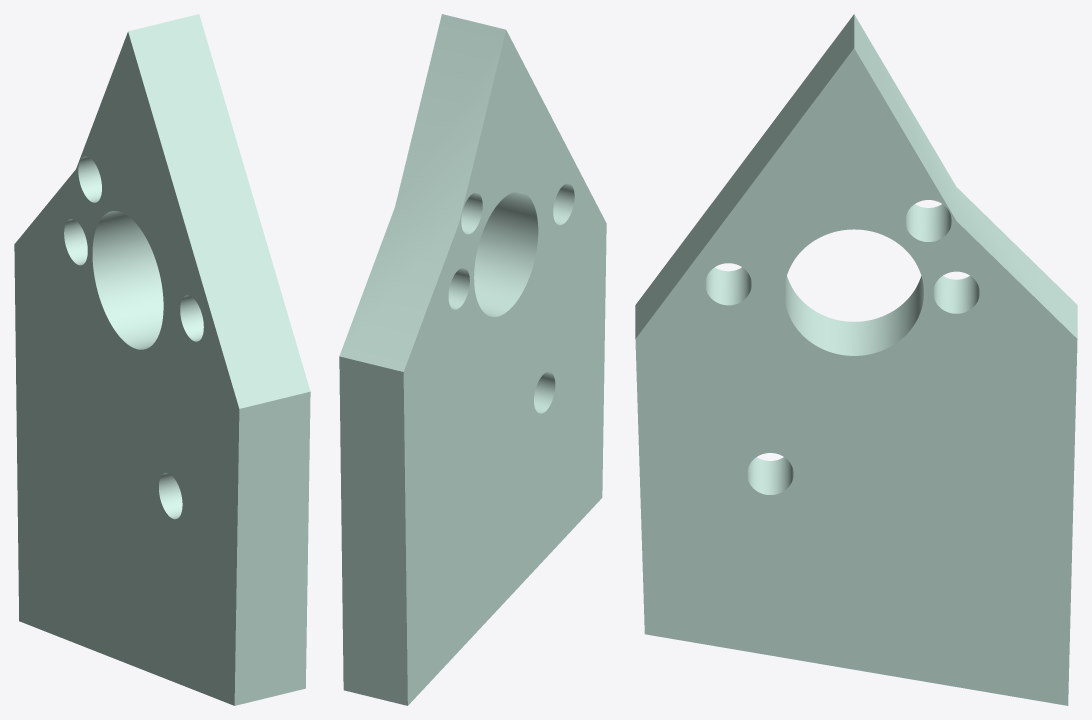
3 renders of one model, left to right at view 1: azimuth 30°, elevation 25°; view 2: azimuth 150°, elevation 25°; view 3: azimuth 270°, elevation 25°, orthographic. The views are drawn at different scales.
Visible parts, largest first — view 1: Renderer Node; view 2: Renderer Node; view 3: Renderer Node.
Boxes of the visible parts, left/top/right/bottom form: Renderer Node: left=14, top=14, right=310, bottom=705; Renderer Node: left=339, top=14, right=606, bottom=705; Renderer Node: left=635, top=14, right=1077, bottom=705.
Size of the model in its own units: 0.1328 by 1.19 by 0.7266.
